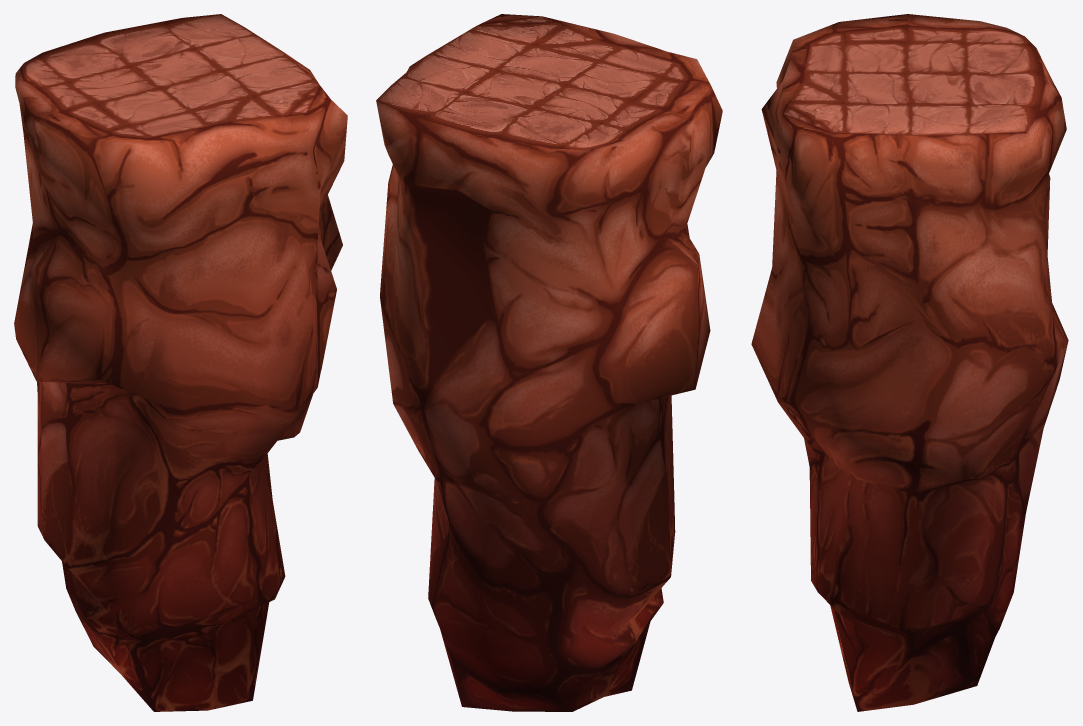
Rendered from rockyPillarLong.fbx.
3 views of the same model, side by side, from view 1: azimuth 30°, elevation 25°; view 2: azimuth 150°, elevation 25°; view 3: azimuth 270°, elevation 25° (orthographic). The views are drawn at different scales.
Visible parts, largest first — view 1: Cube; view 2: Cube; view 3: Cube.
Part boxes in pixels (<box>): Cube: <box>14,14,347,711</box>; Cube: <box>376,14,722,711</box>; Cube: <box>751,14,1068,711</box>.
Bounding box in the file's own units: 5.38 × 10.75 × 5.1.
